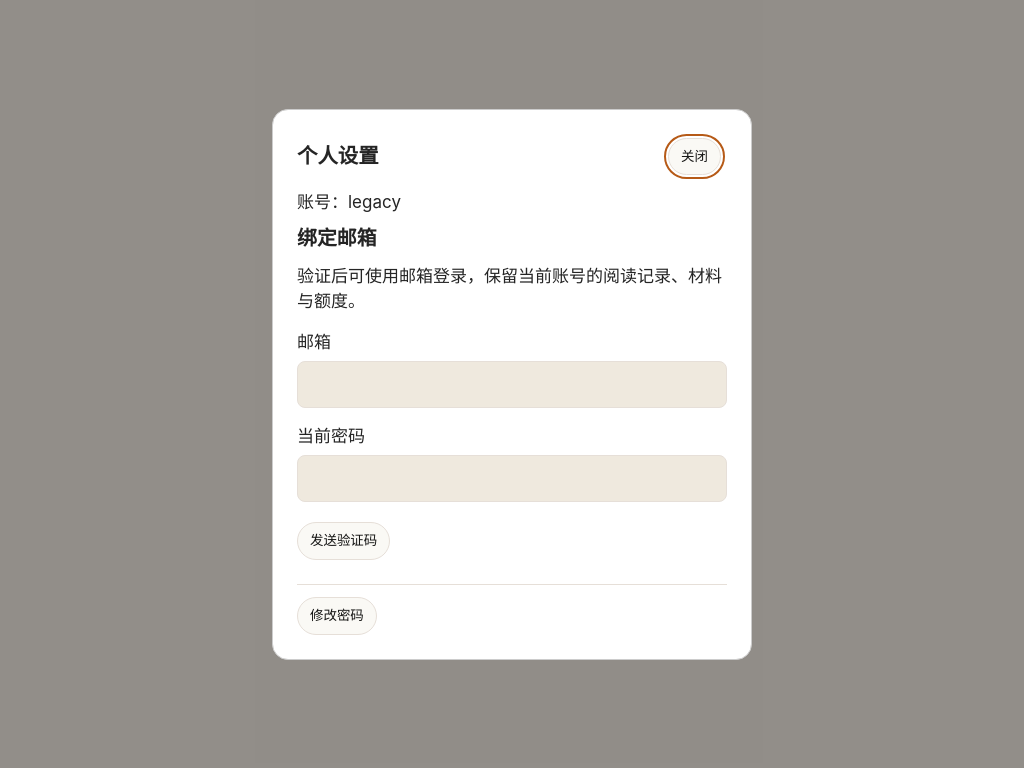
Test case: wrong password retains the current login and shows a cleared password field
Step 1. Type "Reader@Example.com" into the field labelled "邮箱" → (512, 384), box [297,361,727,408]
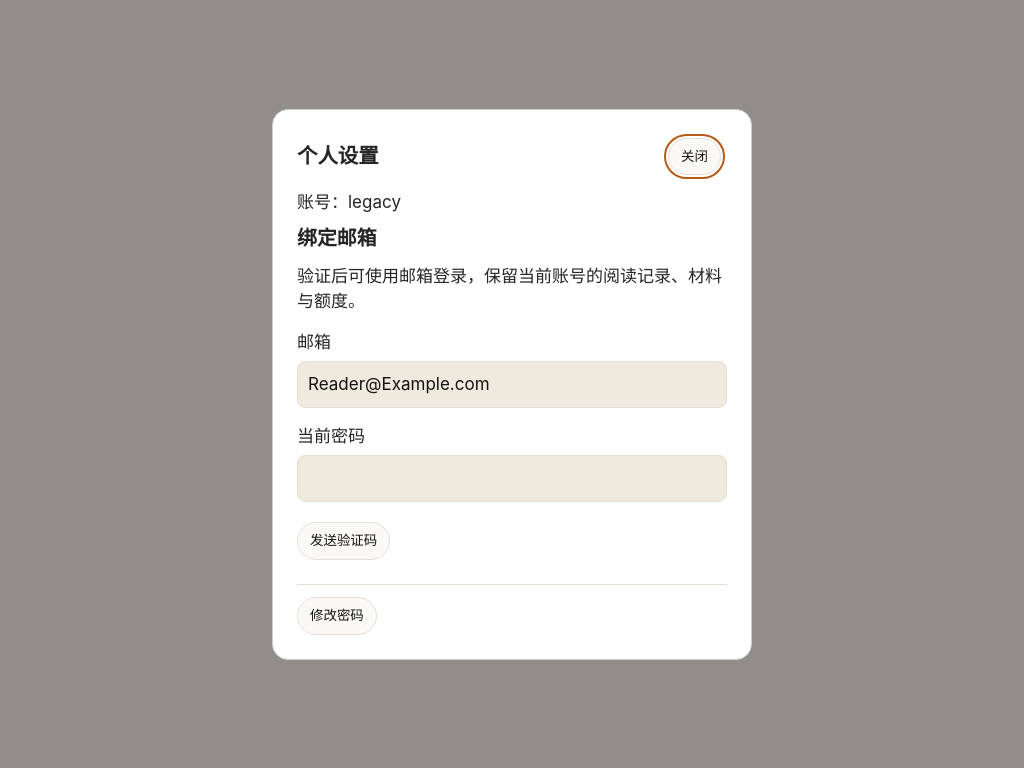
Step 2. Type "fixture-only-password" into the password field labelled "当前密码" → (512, 478), box [297,455,727,502]
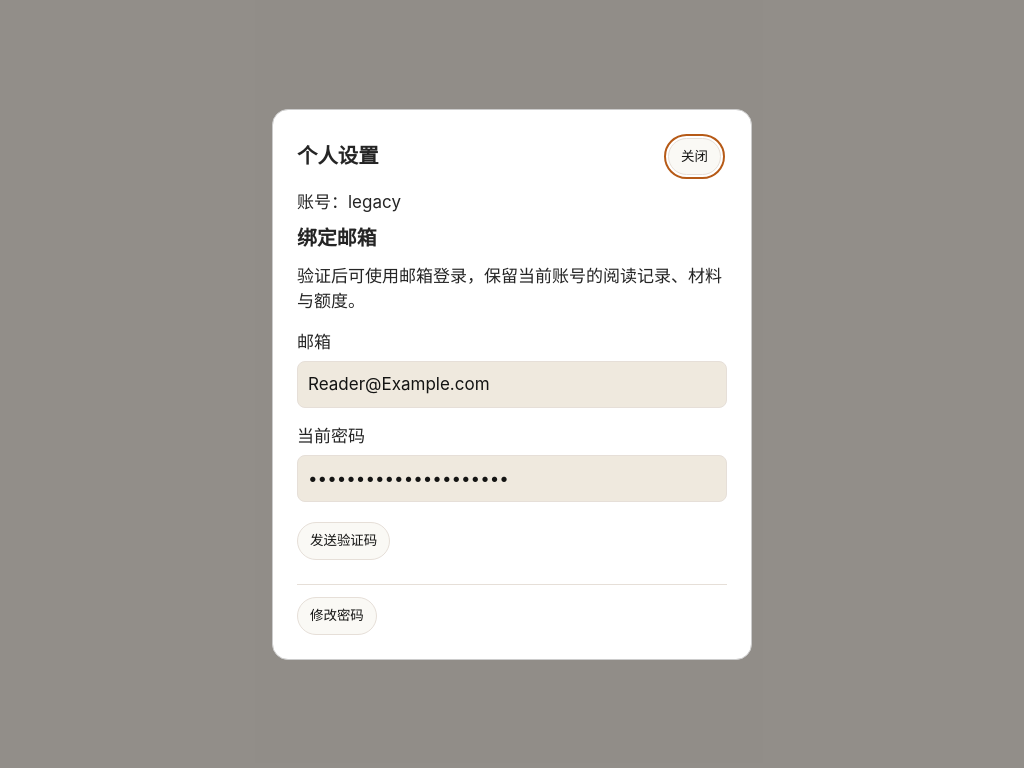
Step 3. Submit the form, box [297,330,727,564]
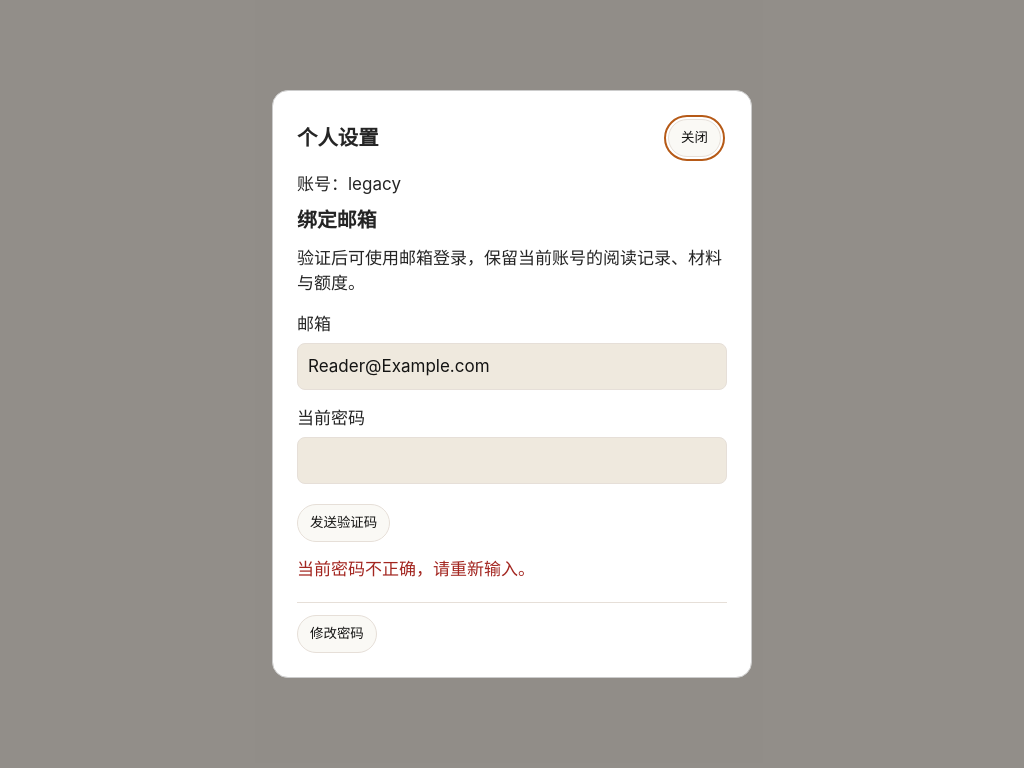
expect the message "当前密码不正确，请重新输入。" is shown: met, box [297,559,535,579]
expect the password field labelled "当前密码" is empty: met, box [297,437,727,484]
